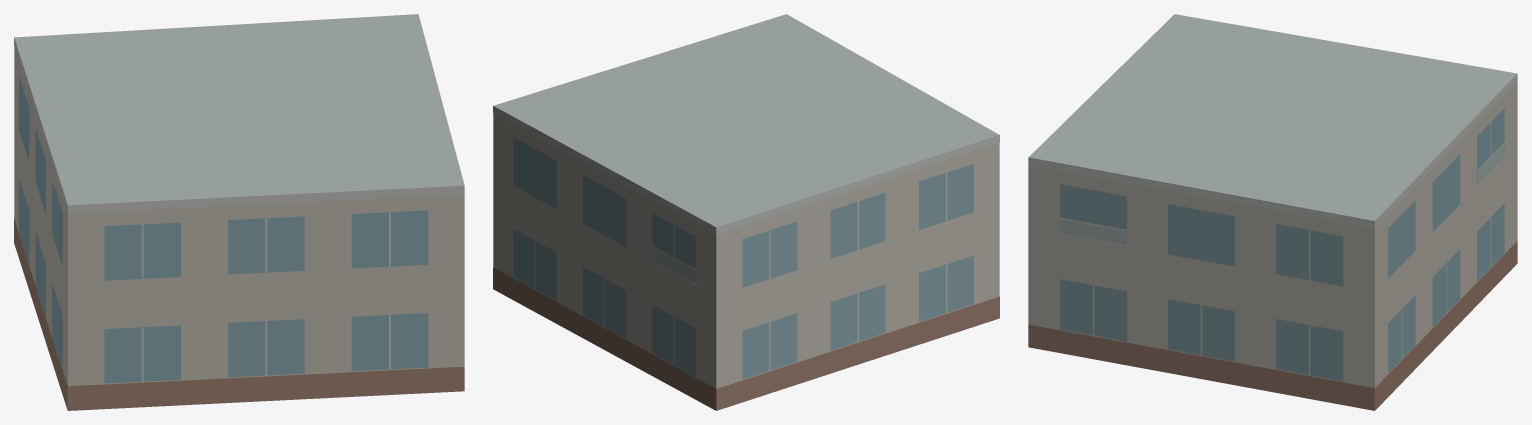
The model's file is survey-upis-33009864.glb.
3 views of the same model, side by side, from view 1: azimuth 30°, elevation 25°; view 2: azimuth 150°, elevation 25°; view 3: azimuth 270°, elevation 25° (orthographic). The views are drawn at different scales.
Parts seen in each view (by area): view 1: survey-upis-33009864.tmp; view 2: survey-upis-33009864.tmp; view 3: survey-upis-33009864.tmp.
Part boxes in pixels (x1,y1,x2,y2): survey-upis-33009864.tmp: [14, 14, 464, 410]; survey-upis-33009864.tmp: [493, 14, 999, 410]; survey-upis-33009864.tmp: [1028, 14, 1517, 410].
Bounding box in the file's own units: 14.27 × 6.1 × 14.25.
